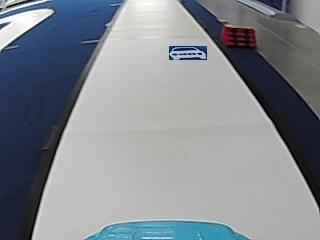bomb: (220, 24, 257, 46)
